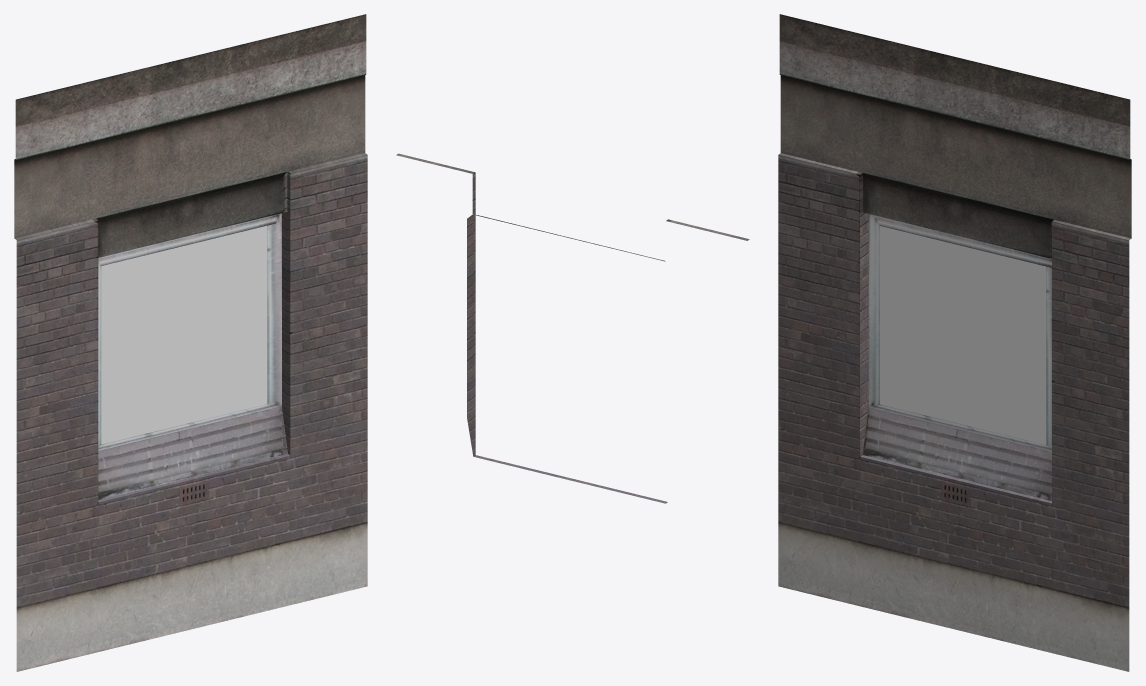
Rendered from building_front4.glb.
The picture shows the model from 3 angles, left to right: view 1: azimuth 30°, elevation 25°; view 2: azimuth 150°, elevation 25°; view 3: azimuth 330°, elevation 25°; orthographic projection.
Visible parts, largest first — view 1: building_front4; view 2: building_front4; view 3: building_front4.
Part boxes in pixels (x1,y1,x2,y2): building_front4: [14, 14, 367, 671]; building_front4: [396, 153, 749, 503]; building_front4: [778, 14, 1131, 671].
Size of the model in its own units: 3.21 by 5 by 0.1363.
Materials: 2 (1 with a texture image).
